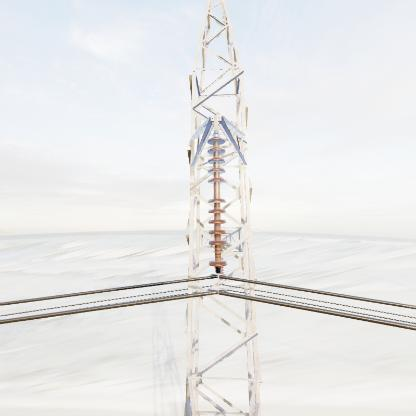insulator: (205, 134, 230, 273)
